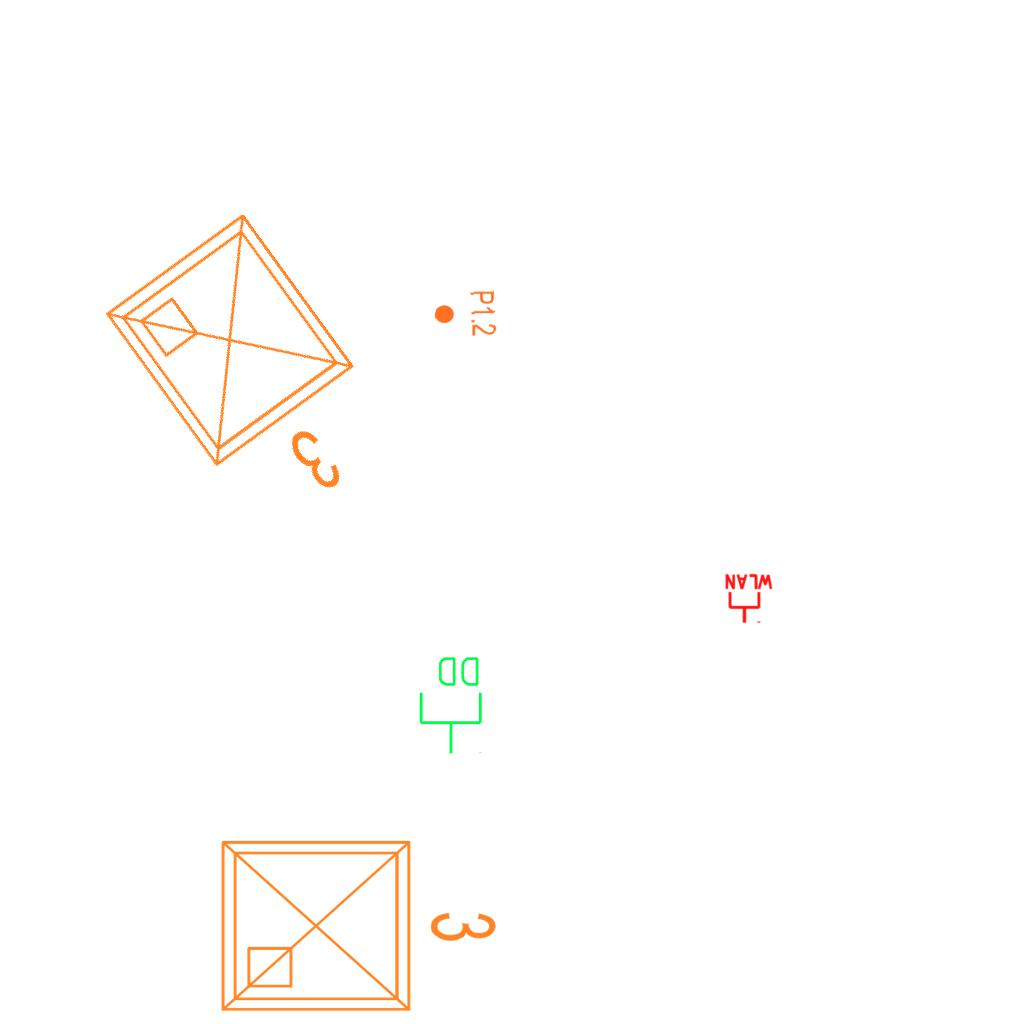Datenanschluss_zweifach: (417, 653, 486, 756)
Downlight_LED_Einbauleuchten_Flur: (431, 289, 499, 339)
Einbaudownlights_LED_Konferenzraeume: (84, 188, 430, 554), (207, 818, 507, 1024)
WLAN: (723, 573, 775, 625)
